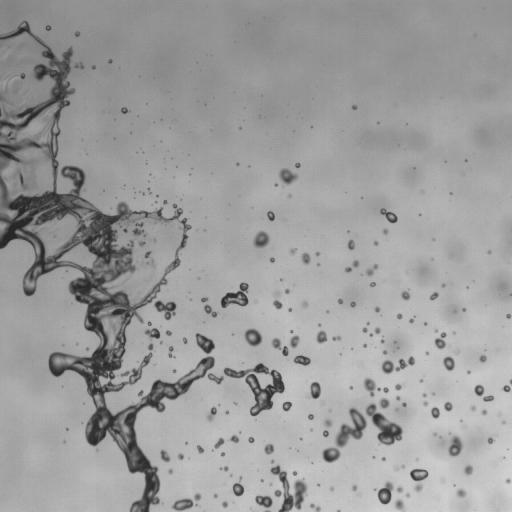droplet: (220, 281, 249, 308), (373, 480, 393, 505), (154, 300, 177, 320), (409, 468, 428, 492), (278, 168, 298, 187), (243, 328, 262, 346), (448, 435, 463, 457), (254, 494, 273, 511), (253, 230, 270, 248), (230, 475, 244, 496), (305, 381, 321, 399), (434, 332, 449, 349), (144, 328, 161, 341), (293, 354, 310, 365), (442, 356, 454, 371), (206, 406, 217, 421), (315, 330, 327, 343), (394, 498, 405, 511), (289, 334, 299, 348), (378, 397, 389, 409), (300, 252, 310, 265), (474, 384, 484, 397), (430, 406, 440, 419), (160, 449, 170, 462), (24, 66, 35, 77), (64, 72, 75, 83), (43, 75, 54, 86), (56, 155, 67, 166), (162, 206, 173, 217), (261, 220, 272, 231), (260, 244, 271, 255), (344, 250, 355, 261), (25, 252, 36, 263), (157, 291, 168, 302), (209, 298, 220, 309), (156, 320, 167, 331), (168, 334, 179, 345), (90, 335, 101, 346), (260, 335, 271, 346), (152, 344, 163, 355), (120, 359, 131, 370), (211, 364, 222, 375), (373, 375, 384, 386), (126, 383, 137, 394), (493, 388, 504, 399), (271, 392, 282, 403), (142, 405, 153, 416), (381, 407, 392, 418), (463, 410, 474, 421), (328, 424, 339, 435), (368, 424, 379, 435), (325, 436, 336, 447), (202, 438, 213, 449), (253, 439, 264, 450), (222, 440, 233, 451), (377, 442, 388, 453), (148, 454, 159, 465), (134, 471, 145, 482), (457, 476, 468, 487), (243, 488, 254, 499), (272, 496, 283, 507), (281, 401, 292, 411), (443, 400, 453, 411), (264, 443, 274, 454), (456, 487, 466, 498), (401, 288, 410, 300), (501, 384, 511, 394), (228, 434, 239, 443), (464, 464, 473, 475), (384, 502, 395, 511), (309, 503, 321, 511), (347, 239, 355, 250), (168, 346, 175, 358), (38, 30, 47, 39), (68, 55, 77, 64), (40, 56, 49, 65), (6, 92, 15, 101), (127, 201, 136, 210), (247, 230, 256, 239), (375, 232, 384, 241), (7, 238, 16, 247), (293, 252, 302, 261), (357, 263, 366, 272), (38, 273, 47, 282), (226, 302, 235, 311), (124, 325, 133, 334), (142, 335, 151, 344), (187, 336, 196, 345), (280, 337, 289, 346), (173, 340, 182, 349), (427, 342, 436, 351), (288, 347, 297, 356), (440, 347, 449, 356), (167, 358, 176, 367), (167, 374, 176, 383), (76, 375, 85, 384), (132, 381, 141, 390), (419, 382, 428, 391), (374, 390, 383, 399), (385, 391, 394, 400), (132, 395, 141, 404), (364, 395, 373, 404), (371, 395, 380, 404), (388, 398, 397, 407), (135, 410, 144, 419), (132, 420, 141, 429), (238, 433, 247, 442), (346, 435, 355, 444), (135, 438, 144, 447), (167, 449, 176, 458), (218, 456, 227, 465), (286, 474, 295, 483), (273, 480, 282, 489), (390, 490, 399, 499), (133, 491, 142, 500), (429, 292, 438, 300), (482, 395, 494, 401), (74, 62, 84, 69), (267, 211, 274, 221), (395, 383, 405, 390), (147, 505, 158, 511), (255, 505, 266, 511), (268, 505, 279, 511), (298, 505, 309, 511), (196, 445, 204, 453), (121, 107, 130, 114), (289, 248, 297, 255), (396, 485, 403, 493), (0, 221, 5, 232), (301, 301, 308, 308), (479, 355, 486, 362), (221, 501, 228, 508), (10, 24, 17, 31), (20, 31, 27, 38), (56, 54, 63, 61), (83, 62, 90, 69), (64, 94, 71, 101), (60, 106, 67, 113), (289, 166, 296, 173), (276, 177, 283, 184), (290, 179, 297, 186), (78, 190, 85, 197), (117, 195, 124, 202), (146, 205, 153, 212), (110, 208, 117, 215), (266, 230, 273, 237), (353, 240, 360, 247), (263, 243, 270, 250), (257, 245, 264, 252), (295, 249, 302, 256), (308, 252, 315, 259), (365, 261, 372, 268), (54, 266, 61, 273), (77, 271, 84, 278), (368, 274, 375, 281), (232, 285, 239, 292), (245, 291, 252, 298), (68, 293, 75, 300), (342, 299, 349, 306), (147, 301, 154, 308), (80, 302, 87, 309), (280, 304, 287, 311), (136, 307, 143, 314), (402, 313, 409, 320), (130, 315, 137, 322), (367, 325, 374, 332), (257, 327, 264, 334), (158, 328, 165, 335), (373, 333, 380, 340), (254, 343, 261, 350), (378, 343, 385, 350), (209, 349, 216, 356), (85, 350, 92, 357), (200, 351, 207, 358), (384, 353, 391, 360), (380, 354, 387, 361), (392, 360, 399, 367), (132, 362, 139, 369), (42, 363, 49, 370), (233, 364, 240, 371), (405, 364, 412, 371), (63, 369, 70, 376), (45, 370, 52, 377), (223, 374, 230, 381), (190, 380, 197, 387), (388, 385, 395, 392), (143, 387, 150, 394), (383, 392, 390, 399), (176, 394, 183, 401), (160, 396, 167, 403), (424, 405, 431, 412), (89, 406, 96, 413), (375, 406, 382, 413), (438, 406, 445, 413), (216, 407, 223, 414), (109, 408, 116, 415), (260, 408, 267, 415), (327, 413, 334, 420), (365, 415, 372, 422), (104, 432, 111, 439), (222, 433, 229, 440), (80, 436, 87, 443), (459, 436, 466, 443), (445, 439, 452, 446), (83, 441, 90, 448), (218, 444, 225, 451), (338, 446, 345, 453), (269, 451, 276, 458), (118, 452, 125, 459), (316, 452, 323, 459), (320, 459, 327, 466), (331, 459, 338, 466), (121, 463, 128, 470), (272, 473, 279, 480), (295, 473, 302, 480), (409, 479, 416, 486), (158, 481, 165, 488), (463, 485, 470, 492), (288, 487, 295, 494), (450, 487, 457, 494), (409, 489, 416, 496), (155, 490, 162, 497), (267, 490, 274, 497), (216, 496, 223, 503), (457, 496, 464, 503), (401, 497, 408, 504), (300, 500, 307, 507), (422, 399, 428, 407), (380, 335, 385, 344), (288, 506, 297, 511), (182, 337, 188, 344), (248, 436, 254, 443), (177, 453, 184, 459), (45, 25, 51, 31), (382, 228, 388, 234), (269, 257, 275, 263), (284, 288, 290, 294), (337, 298, 343, 304), (350, 301, 356, 307), (374, 306, 380, 312), (396, 313, 402, 319), (454, 349, 460, 355), (470, 405, 476, 411), (481, 409, 487, 415), (0, 26, 4, 35), (0, 80, 4, 89), (165, 330, 172, 335), (352, 484, 357, 491), (294, 162, 300, 167), (369, 282, 375, 287), (308, 414, 314, 419), (505, 478, 511, 483), (405, 492, 410, 498), (183, 507, 190, 511), (221, 507, 228, 511), (308, 507, 315, 511), (392, 507, 399, 511), (74, 31, 79, 36), (352, 104, 357, 109), (486, 249, 491, 254), (362, 327, 367, 332), (172, 368, 177, 373), (422, 392, 427, 397), (401, 402, 406, 407), (292, 470, 297, 475), (329, 486, 334, 491), (29, 27, 34, 32), (43, 39, 48, 44), (62, 46, 67, 51), (68, 62, 73, 67), (15, 75, 20, 80), (7, 86, 12, 91), (17, 89, 22, 94), (352, 100, 357, 105), (56, 134, 61, 139), (54, 155, 59, 160), (70, 161, 75, 166), (56, 166, 61, 171), (82, 168, 87, 173), (80, 184, 85, 189), (143, 188, 148, 193), (150, 192, 155, 197), (178, 214, 183, 219), (380, 214, 385, 219), (273, 215, 278, 220), (396, 216, 401, 221), (185, 219, 190, 224), (385, 220, 390, 225), (392, 221, 397, 226), (377, 228, 382, 233), (185, 230, 190, 235), (185, 237, 190, 242), (343, 239, 348, 244), (290, 243, 295, 248), (343, 244, 348, 249), (178, 248, 183, 253), (284, 248, 289, 253), (177, 254, 182, 259), (354, 255, 359, 260), (347, 262, 352, 267), (66, 265, 71, 270), (175, 265, 180, 270), (351, 266, 356, 271), (346, 271, 351, 276), (159, 284, 164, 289), (287, 285, 292, 290), (402, 286, 407, 291), (279, 288, 284, 293), (407, 289, 412, 294), (428, 289, 433, 294), (19, 290, 24, 295), (220, 291, 225, 296), (28, 294, 33, 299), (408, 295, 413, 300), (269, 297, 274, 302), (277, 297, 282, 302), (399, 297, 404, 302), (433, 297, 438, 302), (151, 298, 156, 303), (161, 299, 166, 304), (297, 299, 302, 304), (174, 300, 179, 305), (200, 301, 205, 306), (270, 304, 275, 309), (173, 307, 178, 312), (456, 307, 461, 312), (160, 309, 165, 314), (370, 309, 375, 314), (392, 311, 397, 316), (143, 317, 148, 322), (361, 322, 366, 327), (247, 324, 252, 329), (147, 325, 152, 330), (316, 326, 321, 331), (240, 329, 245, 334), (379, 329, 384, 334), (332, 331, 337, 336), (364, 331, 369, 336), (288, 332, 293, 337), (312, 332, 317, 337), (144, 333, 149, 338), (205, 333, 210, 338), (274, 333, 279, 338), (435, 333, 440, 338), (240, 335, 245, 340), (326, 335, 331, 340), (151, 336, 156, 341), (442, 336, 447, 341), (212, 339, 217, 344), (333, 339, 338, 344), (321, 340, 326, 345), (430, 341, 435, 346), (286, 344, 291, 349), (52, 347, 57, 352), (61, 348, 66, 353), (164, 348, 169, 353), (144, 349, 149, 354), (277, 349, 282, 354), (170, 350, 175, 355), (480, 350, 485, 355), (450, 353, 455, 358), (44, 354, 49, 359), (121, 354, 126, 359), (138, 356, 143, 361), (413, 356, 418, 361), (148, 357, 153, 362), (195, 357, 200, 362), (485, 357, 490, 362), (438, 358, 443, 363), (475, 358, 480, 363), (453, 360, 458, 365), (262, 361, 267, 366), (377, 361, 382, 366), (480, 361, 485, 366), (250, 363, 255, 368), (298, 363, 303, 368), (190, 364, 195, 369), (440, 364, 445, 369), (241, 365, 246, 370), (141, 366, 146, 371), (184, 368, 189, 373), (391, 368, 396, 373), (112, 369, 117, 374), (447, 369, 452, 374), (383, 372, 388, 377), (230, 376, 235, 381), (240, 376, 245, 381), (280, 376, 285, 381), (312, 377, 317, 382), (210, 379, 215, 384), (306, 380, 311, 385), (478, 380, 483, 385), (504, 380, 509, 385), (318, 381, 323, 386), (243, 382, 248, 387), (124, 383, 129, 388), (319, 384, 324, 389), (469, 386, 474, 391), (305, 387, 310, 392), (372, 388, 377, 393), (117, 389, 122, 394), (364, 389, 369, 394), (395, 389, 400, 394), (501, 390, 506, 395), (103, 391, 108, 396), (471, 391, 476, 396), (482, 391, 487, 396), (249, 392, 254, 397), (318, 393, 323, 398), (87, 395, 92, 400), (420, 396, 425, 401), (424, 396, 429, 401), (313, 397, 318, 402), (399, 397, 404, 402), (251, 399, 256, 404), (450, 400, 455, 405), (418, 402, 423, 407), (465, 403, 470, 408), (450, 407, 455, 412), (465, 407, 470, 412), (486, 409, 491, 414), (157, 411, 162, 416), (213, 413, 218, 418), (427, 413, 432, 418), (481, 414, 486, 419), (497, 416, 502, 421), (462, 418, 467, 423), (321, 425, 326, 430), (400, 425, 405, 430), (400, 431, 405, 436), (486, 432, 491, 437), (236, 433, 241, 438), (213, 437, 218, 442), (482, 437, 487, 442), (374, 438, 379, 443), (267, 439, 272, 444), (393, 439, 398, 444), (229, 440, 234, 445), (111, 441, 116, 446), (379, 442, 384, 447), (200, 443, 205, 448), (260, 443, 265, 448), (272, 444, 277, 449), (259, 446, 264, 451), (193, 448, 198, 453), (459, 449, 464, 454), (444, 450, 449, 455), (199, 452, 204, 457), (454, 454, 459, 459), (182, 455, 187, 460), (376, 455, 381, 460), (176, 458, 181, 463), (271, 462, 276, 467), (416, 464, 421, 469), (460, 464, 465, 469), (408, 465, 413, 470), (227, 467, 232, 472), (265, 467, 270, 472), (471, 467, 476, 472), (172, 468, 177, 473), (155, 470, 160, 475), (224, 470, 229, 475), (467, 473, 472, 478), (406, 474, 411, 479), (233, 478, 238, 483), (418, 479, 423, 484), (239, 480, 244, 485), (328, 481, 333, 486), (347, 483, 352, 488), (379, 483, 384, 488), (227, 484, 232, 489), (455, 484, 460, 489), (279, 487, 284, 492), (355, 487, 360, 492), (194, 488, 199, 493), (401, 489, 406, 494), (418, 489, 423, 494), (350, 490, 355, 495), (373, 490, 378, 495), (260, 491, 265, 496), (179, 494, 184, 499), (232, 494, 237, 499), (238, 494, 243, 499), (189, 495, 194, 500), (191, 498, 196, 503), (169, 499, 174, 504), (196, 499, 201, 504), (375, 499, 380, 504), (313, 501, 318, 506), (126, 502, 131, 507), (227, 502, 232, 507), (217, 503, 222, 508), (168, 468, 172, 474), (163, 200, 168, 204), (373, 241, 378, 245), (315, 251, 319, 256), (506, 314, 511, 318), (289, 329, 294, 333), (382, 350, 387, 354), (425, 350, 429, 355), (358, 362, 363, 366), (466, 370, 471, 374), (349, 385, 353, 390), (396, 395, 400, 400), (233, 401, 238, 405), (501, 420, 506, 424), (432, 432, 437, 436), (220, 452, 225, 456), (440, 478, 445, 482), (213, 493, 217, 498), (108, 59, 112, 63), (91, 65, 95, 69), (274, 182, 278, 186), (287, 194, 291, 198), (316, 262, 320, 266), (441, 283, 445, 287), (288, 307, 292, 311), (147, 321, 151, 325), (317, 323, 321, 327), (434, 328, 438, 332), (363, 343, 367, 347), (328, 408, 332, 412), (225, 410, 229, 414), (459, 419, 463, 423), (309, 427, 313, 431), (381, 457, 385, 461), (270, 459, 274, 463), (316, 483, 320, 487), (269, 482, 272, 487), (508, 383, 511, 388), (124, 508, 129, 511), (171, 508, 176, 511), (319, 508, 324, 511), (238, 126, 242, 129), (464, 158, 467, 162), (236, 162, 239, 166), (155, 194, 159, 197), (254, 299, 257, 303), (462, 308, 466, 311), (85, 347, 89, 350), (240, 362, 243, 366), (431, 392, 435, 395), (63, 439, 66, 443), (229, 473, 232, 477), (260, 478, 263, 482), (376, 121, 379, 124), (310, 125, 313, 128), (154, 200, 157, 203), (432, 238, 435, 241), (280, 278, 283, 281), (466, 286, 469, 289), (189, 298, 192, 301), (326, 310, 329, 313), (453, 310, 456, 313), (366, 322, 369, 325), (424, 322, 427, 325), (452, 331, 455, 334), (395, 408, 398, 411), (65, 427, 68, 430), (448, 432, 451, 435), (299, 437, 302, 440), (185, 441, 188, 444), (502, 456, 505, 459), (48, 22, 51, 25), (42, 25, 45, 28), (50, 25, 53, 28), (77, 28, 80, 31), (44, 29, 47, 32), (48, 29, 51, 32), (72, 29, 75, 32), (79, 32, 82, 35), (72, 34, 75, 37), (77, 35, 80, 38), (36, 42, 39, 45), (111, 57, 114, 60), (105, 58, 108, 61), (82, 62, 85, 65), (108, 62, 111, 65), (95, 65, 98, 68), (92, 68, 95, 71), (20, 69, 23, 72), (120, 104, 123, 107), (356, 105, 359, 108), (126, 106, 129, 109), (117, 107, 120, 110), (350, 108, 353, 111), (119, 111, 122, 114), (124, 112, 127, 115), (377, 118, 380, 121), (407, 122, 410, 125), (307, 123, 310, 126), (375, 123, 378, 126), (312, 124, 315, 127), (310, 127, 313, 130), (240, 128, 243, 131), (59, 130, 62, 133), (138, 150, 141, 153), (466, 157, 469, 160), (461, 158, 464, 161), (295, 159, 298, 162), (233, 160, 236, 163), (238, 160, 241, 163), (463, 161, 466, 164), (299, 162, 302, 165), (233, 163, 236, 166), (172, 165, 175, 168), (236, 165, 239, 168), (415, 166, 418, 169), (247, 167, 250, 170), (188, 169, 191, 172), (146, 170, 149, 173), (151, 172, 154, 175), (148, 175, 151, 178), (271, 183, 274, 186), (120, 184, 123, 187), (145, 184, 148, 187), (274, 186, 277, 189), (149, 188, 152, 191), (449, 188, 452, 191), (135, 190, 138, 193), (155, 191, 158, 194), (139, 192, 142, 195), (448, 194, 451, 197), (163, 196, 166, 199), (155, 197, 158, 200), (166, 199, 169, 202), (379, 205, 382, 208), (136, 208, 139, 211), (266, 208, 269, 211), (272, 210, 275, 213), (415, 212, 418, 215), (395, 213, 398, 216), (418, 215, 421, 218), (265, 216, 268, 219), (344, 227, 347, 230), (375, 238, 378, 241), (370, 241, 373, 244), (372, 244, 375, 247), (316, 248, 319, 251), (484, 248, 487, 251), (490, 248, 493, 251), (490, 251, 493, 254), (486, 253, 489, 256), (269, 254, 272, 257), (317, 254, 320, 257), (274, 258, 277, 261), (374, 260, 377, 263), (268, 261, 271, 264), (319, 261, 322, 264), (377, 264, 380, 267), (317, 265, 320, 268), (341, 267, 344, 270), (164, 275, 167, 278), (280, 275, 283, 278), (276, 277, 279, 280), (240, 279, 243, 282), (245, 280, 248, 283), (441, 280, 444, 283), (468, 284, 471, 287), (373, 285, 376, 288), (444, 285, 447, 288), (462, 285, 465, 288), (33, 290, 36, 293), (288, 291, 291, 294), (188, 294, 191, 297), (202, 294, 205, 297), (335, 296, 338, 299), (197, 298, 200, 301), (352, 298, 355, 301), (307, 301, 310, 304), (335, 301, 338, 304), (339, 303, 342, 306), (354, 304, 357, 307), (462, 304, 465, 307), (350, 306, 353, 309), (323, 307, 326, 310), (291, 308, 294, 311), (465, 308, 468, 311), (202, 310, 205, 313), (322, 310, 325, 313), (328, 310, 331, 313), (378, 310, 381, 313), (398, 310, 401, 313), (288, 311, 291, 314), (462, 311, 465, 314), (216, 313, 219, 316), (415, 314, 418, 317), (503, 314, 506, 317), (410, 315, 413, 318), (212, 316, 215, 319), (505, 317, 508, 320), (396, 318, 399, 321), (421, 319, 424, 322), (318, 320, 321, 323), (408, 322, 411, 325), (420, 322, 423, 325), (426, 322, 429, 325), (289, 326, 292, 329), (359, 327, 362, 330), (169, 328, 172, 331), (453, 328, 456, 331), (232, 330, 235, 333), (228, 331, 231, 334), (455, 331, 458, 334), (170, 333, 173, 336), (230, 335, 233, 338), (340, 335, 343, 338), (382, 336, 385, 339), (180, 340, 183, 343), (360, 342, 363, 345), (183, 343, 186, 346), (366, 343, 369, 346), (394, 343, 397, 346), (172, 345, 175, 348), (347, 345, 350, 348), (361, 346, 364, 349), (352, 348, 355, 351), (150, 349, 153, 352), (349, 349, 352, 352), (379, 350, 382, 353), (341, 352, 344, 355), (422, 352, 425, 355), (302, 353, 305, 356), (165, 354, 168, 357), (337, 354, 340, 357), (425, 354, 428, 357), (175, 355, 178, 358), (296, 362, 299, 365), (171, 366, 174, 369), (468, 367, 471, 370), (268, 368, 271, 371), (399, 368, 402, 371), (169, 369, 172, 372), (463, 370, 466, 373), (467, 373, 470, 376), (417, 376, 420, 379), (422, 377, 425, 380), (136, 379, 139, 382), (220, 380, 223, 383), (416, 380, 419, 383), (420, 381, 423, 384), (216, 383, 219, 386), (500, 384, 503, 387), (352, 386, 355, 389), (380, 386, 383, 389), (137, 388, 140, 391), (347, 388, 350, 391), (431, 388, 434, 391), (420, 390, 423, 393), (434, 391, 437, 394), (287, 398, 290, 401), (234, 399, 237, 402), (486, 400, 489, 403), (231, 403, 234, 406), (405, 403, 408, 406), (289, 406, 292, 409), (402, 406, 405, 409), (223, 408, 226, 411), (280, 408, 283, 411), (228, 409, 231, 412), (246, 410, 249, 413), (283, 410, 286, 413), (310, 411, 313, 414), (305, 413, 308, 416), (252, 415, 255, 418), (457, 416, 460, 419), (461, 416, 464, 419), (312, 417, 315, 420), (308, 419, 311, 422), (505, 420, 508, 423), (458, 422, 461, 425), (503, 423, 506, 426), (67, 425, 70, 428), (62, 427, 65, 430), (306, 428, 309, 431), (67, 429, 70, 432), (432, 429, 435, 432), (309, 431, 312, 434), (319, 431, 322, 434), (436, 432, 439, 435), (299, 434, 302, 437), (252, 435, 255, 438), (321, 435, 324, 438), (245, 436, 248, 439), (64, 437, 67, 440), (296, 438, 299, 441), (245, 439, 248, 442), (253, 439, 256, 442), (181, 441, 184, 444), (187, 441, 190, 444), (485, 441, 488, 444), (491, 441, 494, 444), (249, 442, 252, 445), (211, 445, 214, 448), (291, 446, 294, 449), (295, 446, 298, 449), (298, 448, 301, 451), (293, 449, 296, 452), (224, 452, 227, 455), (372, 452, 375, 455), (503, 453, 506, 456), (380, 454, 383, 457), (219, 455, 222, 458), (384, 455, 387, 458), (371, 458, 374, 461), (503, 458, 506, 461), (398, 462, 401, 465), (309, 463, 312, 466), (221, 464, 224, 467), (216, 465, 219, 468), (427, 470, 430, 473), (257, 478, 260, 481), (317, 480, 320, 483), (452, 480, 455, 483), (259, 481, 262, 484), (319, 483, 322, 486), (449, 483, 452, 486), (315, 485, 318, 488), (333, 485, 336, 488), (243, 487, 246, 490), (327, 489, 330, 492), (242, 491, 245, 494), (216, 492, 219, 495), (210, 494, 213, 497), (252, 499, 255, 502), (336, 506, 339, 509), (160, 340, 162, 344), (416, 457, 418, 461), (336, 509, 340, 511), (449, 192, 452, 194), (418, 213, 421, 215), (347, 230, 349, 233), (360, 273, 363, 275), (197, 277, 200, 279), (231, 333, 234, 335), (76, 342, 78, 345), (350, 347, 353, 349), (218, 403, 220, 406), (239, 431, 241, 434), (372, 456, 375, 458), (311, 461, 313, 464), (509, 295, 511, 298), (509, 312, 511, 315), (509, 316, 511, 319), (509, 447, 511, 450), (509, 477, 511, 480), (333, 509, 336, 511), (340, 509, 343, 511), (113, 137, 115, 139), (160, 140, 162, 142), (444, 160, 446, 162), (145, 162, 147, 164), (248, 165, 250, 167), (413, 167, 415, 169), (149, 173, 151, 175), (189, 173, 191, 175), (180, 198, 182, 200), (203, 229, 205, 231), (509, 293, 511, 295), (394, 341, 396, 343), (484, 349, 486, 351), (339, 353, 341, 355), (61, 385, 63, 387), (81, 421, 83, 423), (439, 436, 441, 438), (453, 484, 455, 486), (232, 501, 234, 503), (130, 132, 132, 133), (142, 152, 144, 153), (148, 180, 149, 182), (124, 184, 125, 186), (375, 346, 376, 348), (398, 346, 399, 348), (507, 448, 508, 450), (134, 197, 135, 198), (66, 270, 67, 271), (154, 364, 155, 365)
ligament: (322, 402, 403, 463), (380, 356, 415, 374), (171, 492, 201, 511), (201, 296, 219, 317), (271, 337, 289, 357), (380, 208, 397, 223), (322, 417, 333, 437), (211, 437, 225, 451), (344, 260, 359, 273), (272, 290, 282, 309), (365, 263, 378, 276), (369, 326, 381, 337), (486, 434, 498, 444), (393, 464, 405, 471), (409, 315, 415, 323), (332, 335, 341, 340), (219, 466, 228, 471), (21, 90, 27, 96), (249, 507, 258, 511), (138, 190, 145, 195), (419, 375, 424, 382), (147, 187, 151, 194), (509, 379, 511, 385), (295, 448, 298, 451)
